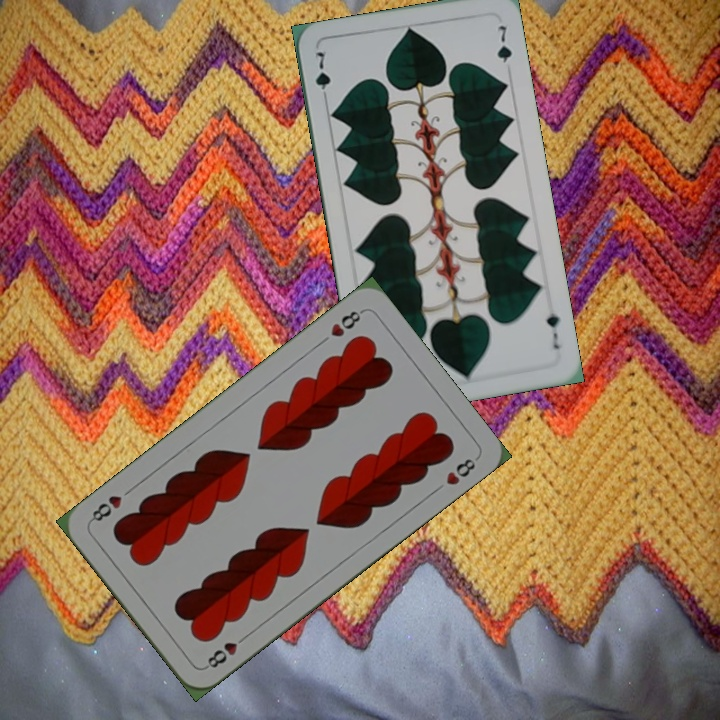G7: (311, 47, 333, 105), (542, 308, 562, 352)
H8: (200, 630, 251, 672), (326, 305, 366, 340)
